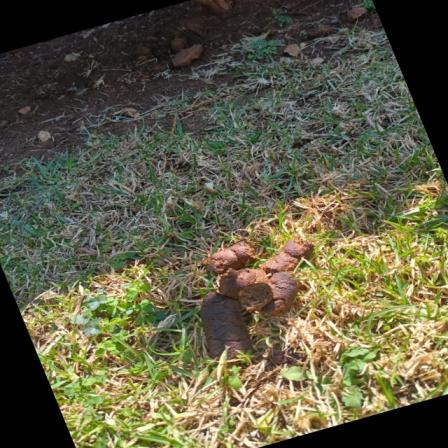dog-poop: (178, 222, 317, 360)
